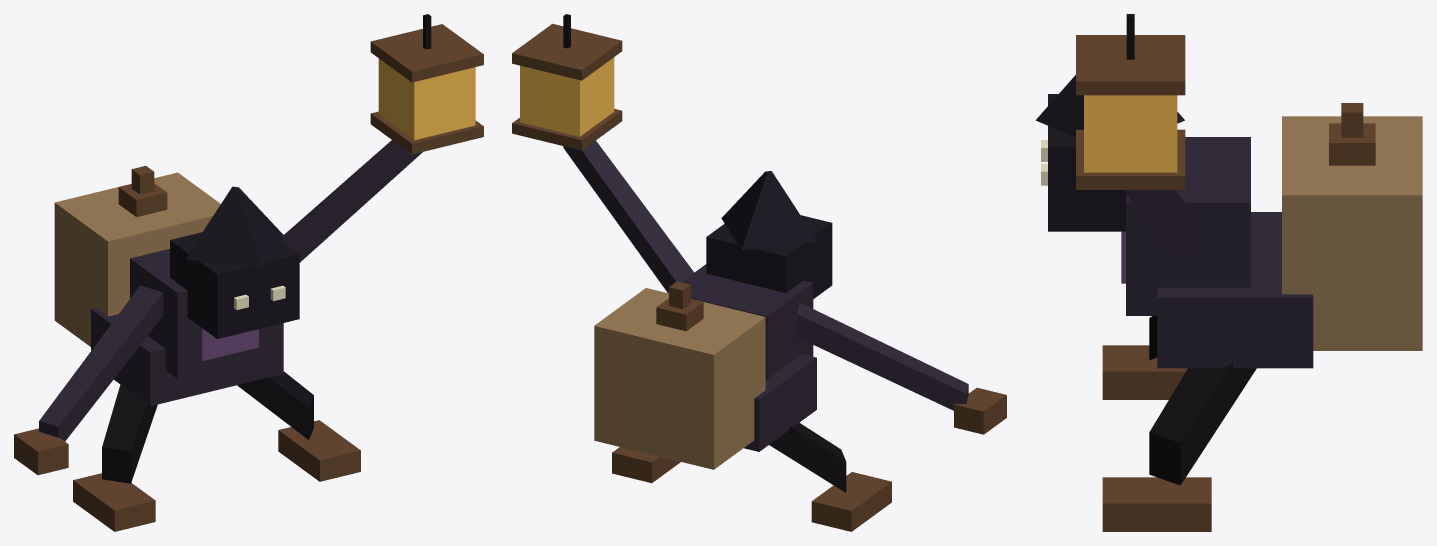
Rendered from LanternThief.glb.
The picture shows the model from 3 angles, left to right: view 1: azimuth 30°, elevation 25°; view 2: azimuth 150°, elevation 25°; view 3: azimuth 270°, elevation 25°; orthographic projection. The views are drawn at different scales.
Parts seen in each view (by area): view 1: LanternThief; view 2: LanternThief; view 3: LanternThief.
Boxes of the visible parts, x1,y1,x2,y2 form: LanternThief: [14, 14, 483, 531]; LanternThief: [512, 14, 1006, 531]; LanternThief: [1035, 14, 1422, 531].
Bounding box in the file's own units: 4.45 × 4 × 2.48.
1 material, 1 textured.
